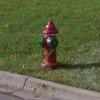Hydrant: (33, 14, 72, 88)
